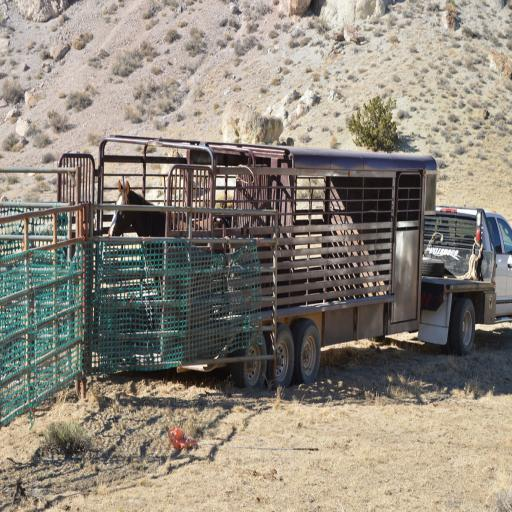Horse: (108, 180, 230, 306)
